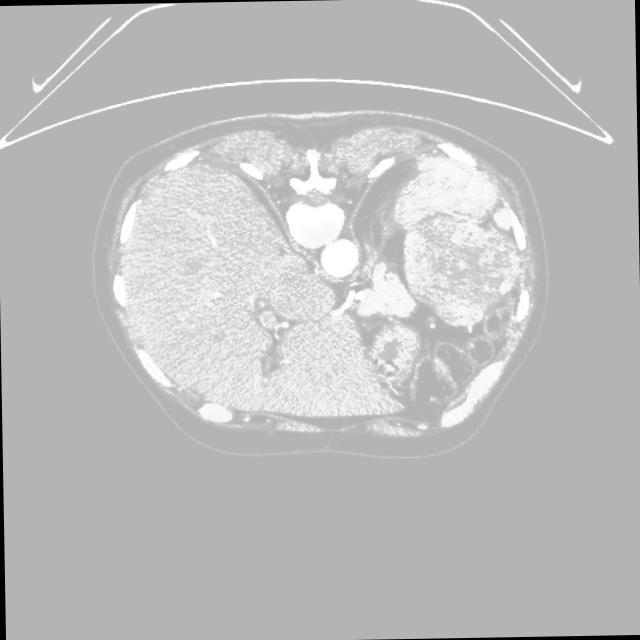TUMOR: (392, 166, 546, 388)
